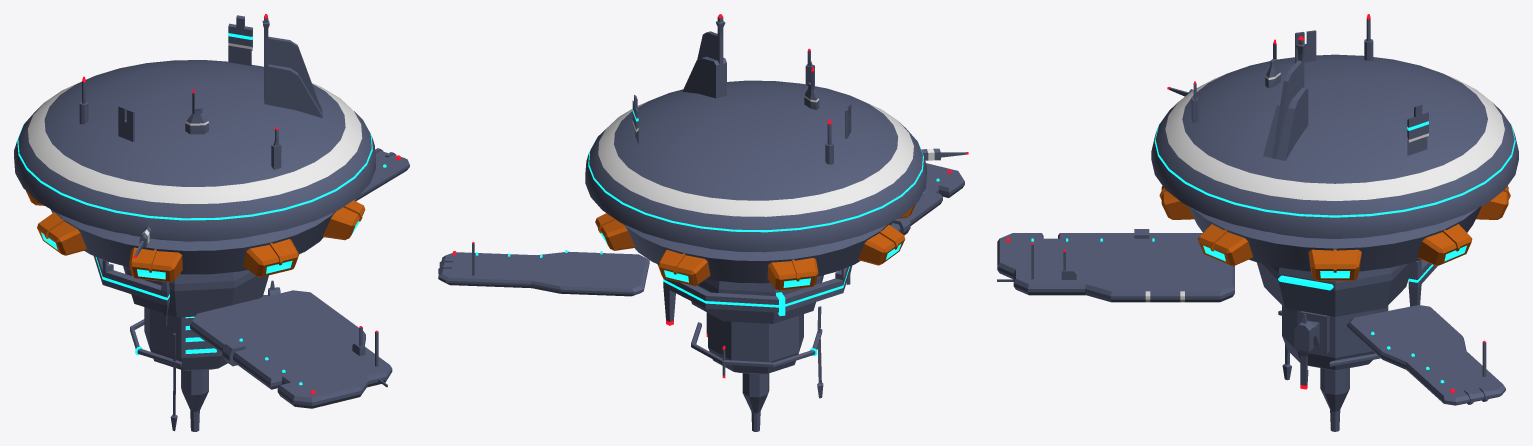
The model's file is Space Station.fbx.
3 renders of one model, left to right at view 1: azimuth 30°, elevation 25°; view 2: azimuth 150°, elevation 25°; view 3: azimuth 270°, elevation 25°, orthographic. The views are drawn at different scales.
Parts seen in each view (by area): view 1: Space Station, Space Station.001; view 2: Space Station; view 3: Space Station, Space Station.001.
Boxes of the visible parts, x1=… form: Space Station: x1=14, y1=14, x2=409, y2=431; Space Station.001: x1=41, y1=221, x2=359, y2=279; Space Station: x1=438, y1=14, x2=968, y2=431; Space Station: x1=997, y1=14, x2=1518, y2=431; Space Station.001: x1=1203, y1=245, x2=1466, y2=278.
Bounding box in the file's own units: 5.82 × 5.37 × 6.04.
